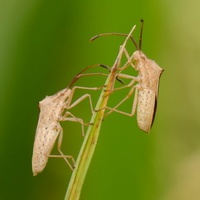insect: (32, 20, 162, 184), (32, 64, 110, 175), (91, 20, 162, 131), (59, 120, 84, 161)
